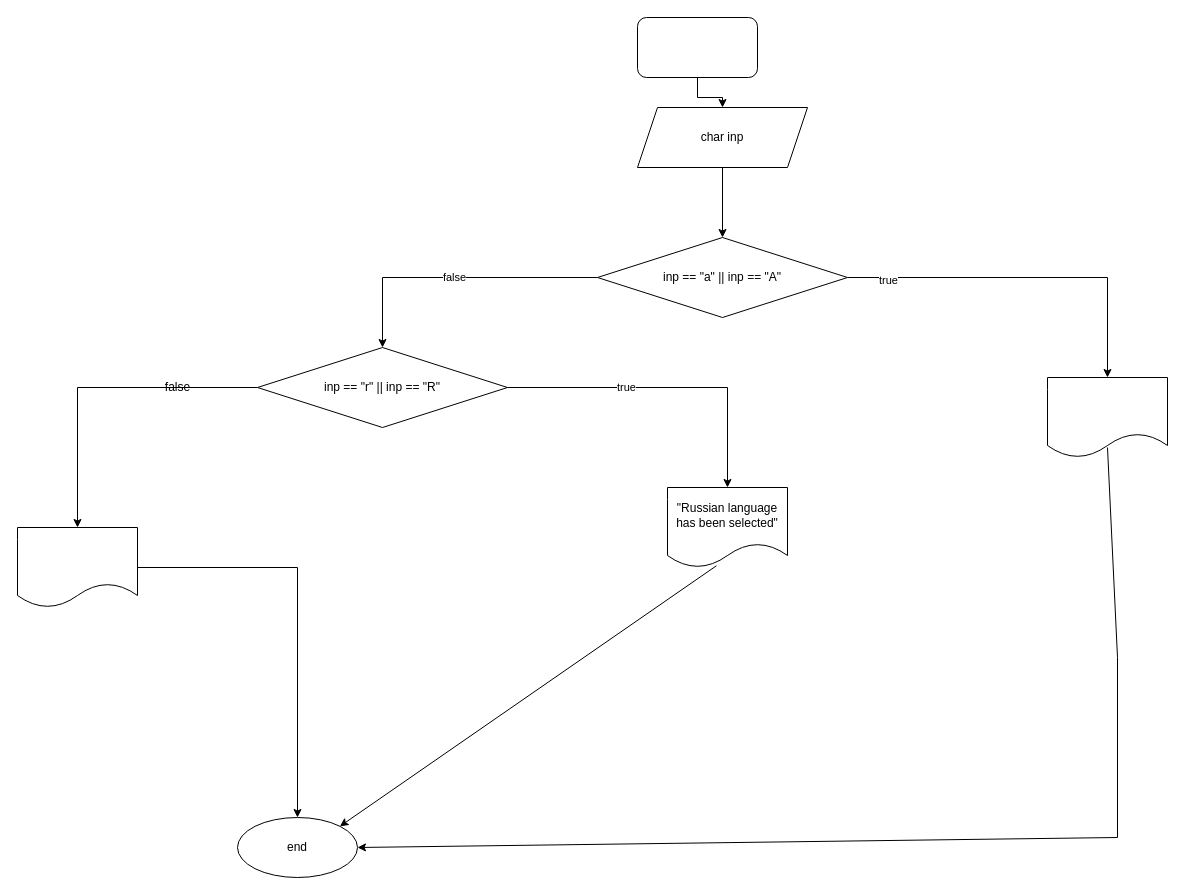
The diagram is 1185 pixels wide and 895 high, and some of its shapes have lost their labels. The centre of each missing label's shape, as x and y in pixels:
"Azerbaijan language has been selected": [1107,417]
start: [697,47]
Wrong input: [77,567]
